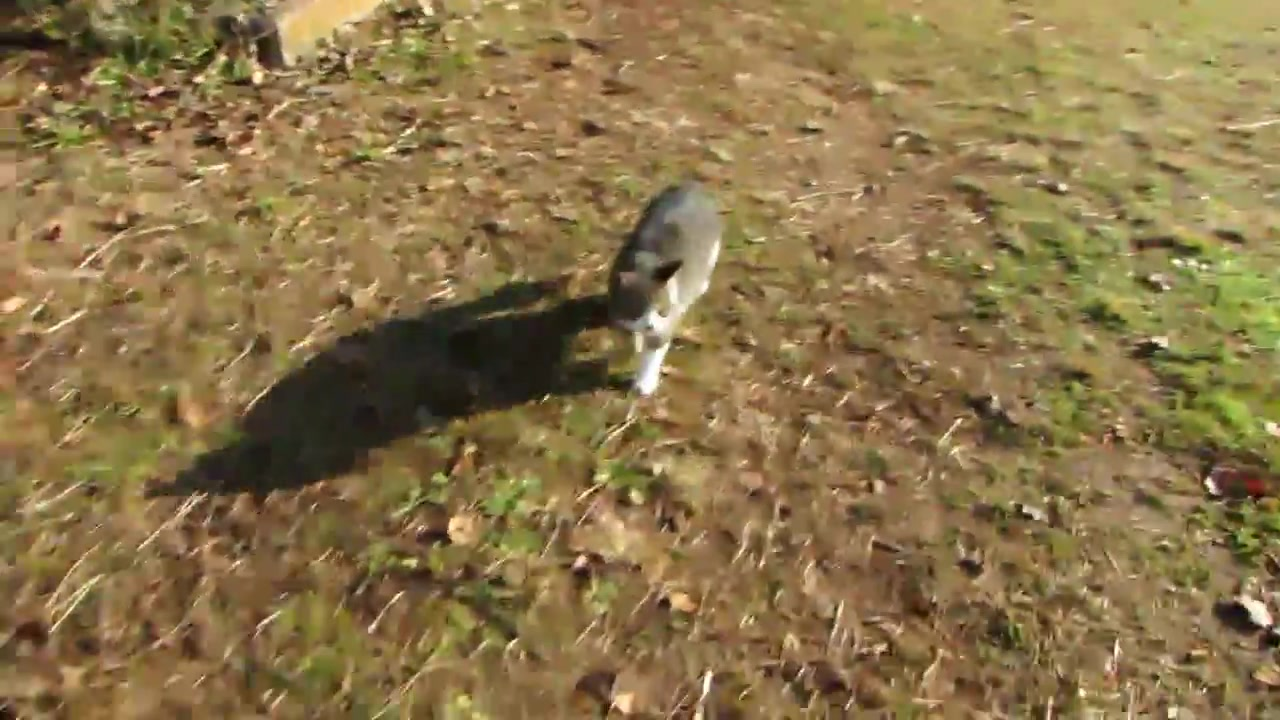cat: (603, 184, 734, 402)
